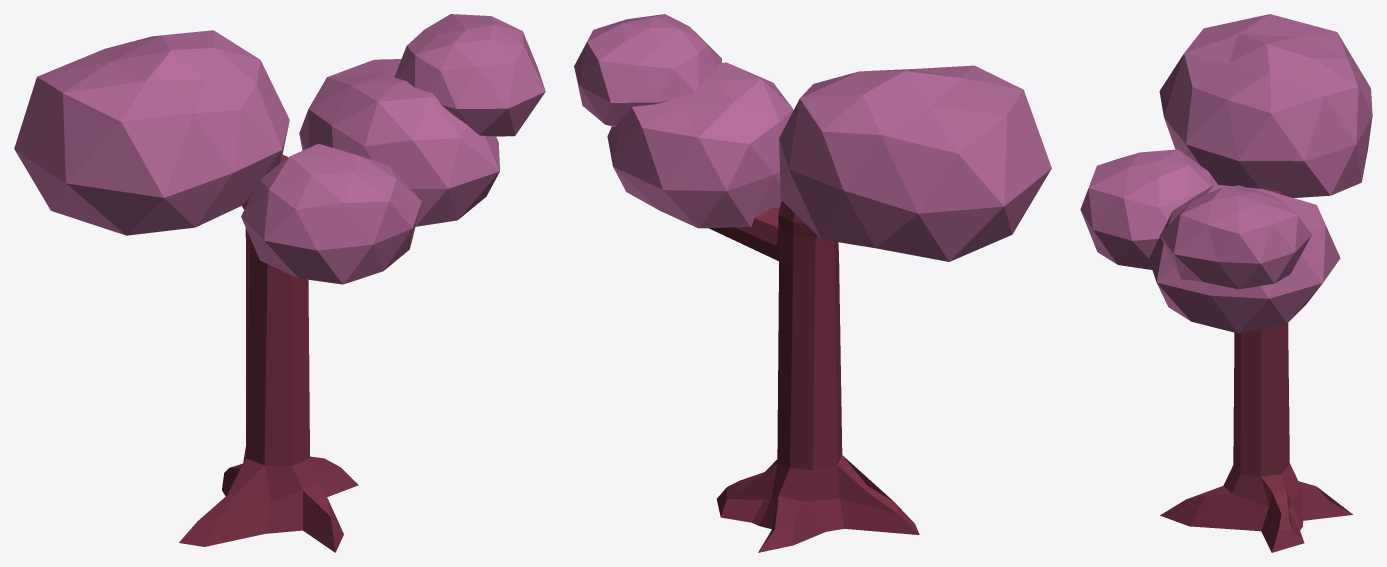
File: Mo_ForestTree07.fbx
The picture shows the model from 3 angles, left to right: view 1: azimuth 30°, elevation 25°; view 2: azimuth 150°, elevation 25°; view 3: azimuth 270°, elevation 25°; orthographic projection. The views are drawn at different scales.
Visible parts, largest first — view 1: Icosphere.001; view 2: Icosphere.001; view 3: Icosphere.001.
Part boxes in pixels (x1,y1,x2,y2): Icosphere.001: [14, 14, 545, 552]; Icosphere.001: [574, 14, 1051, 552]; Icosphere.001: [1080, 14, 1372, 552].
Bounding box in the file's own units: 172 × 168 × 104.
